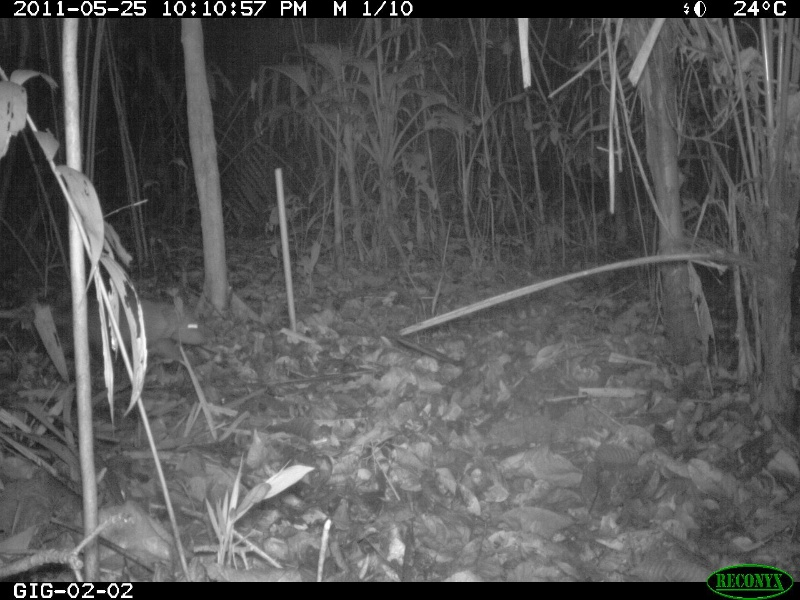opossum: (1, 296, 210, 365)
